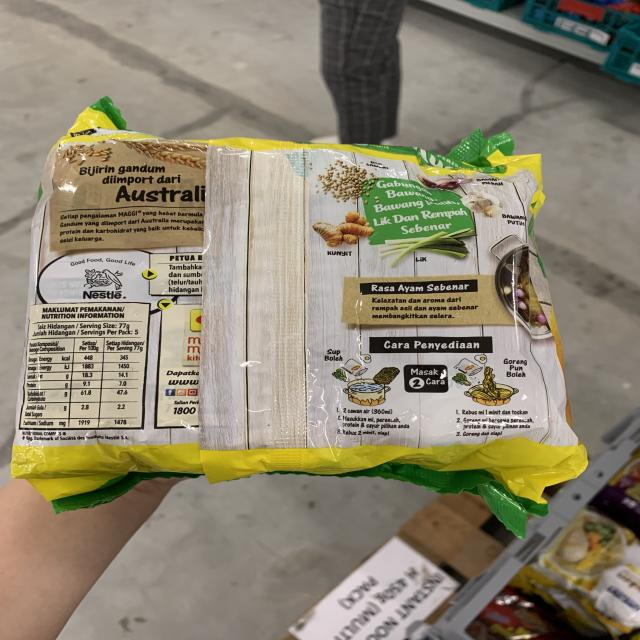object_name: (41, 131, 556, 485)
